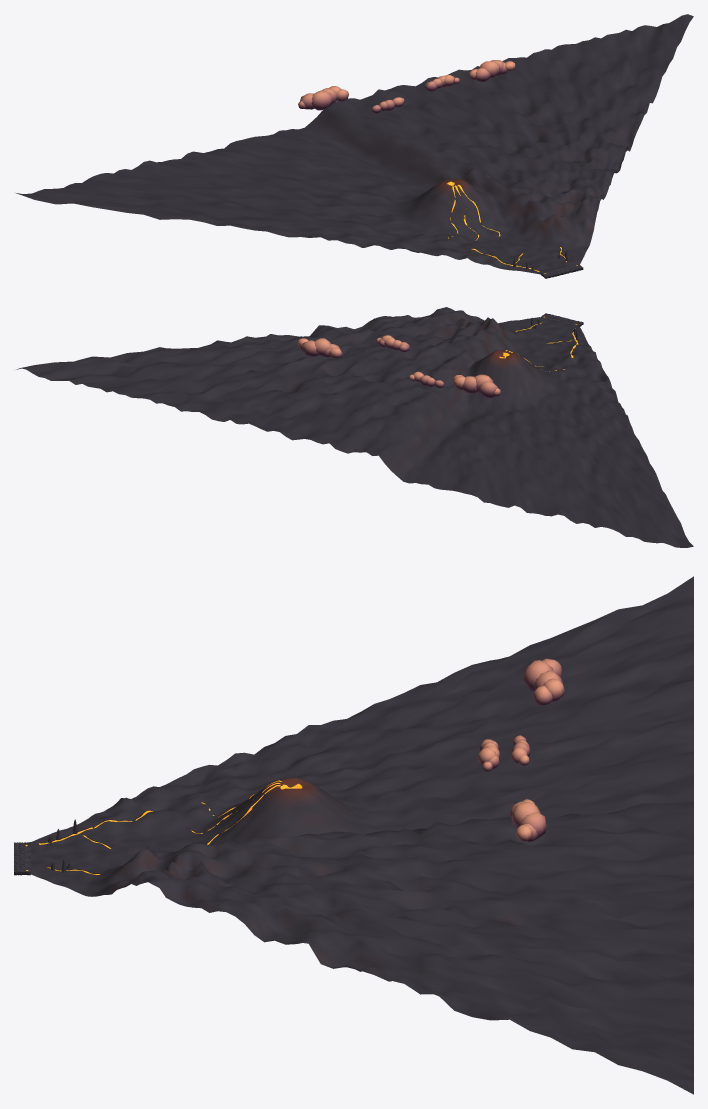
Rendered from backdrop_5.glb.
3 renders of one model, top to bottom at view 1: azimuth 30°, elevation 25°; view 2: azimuth 150°, elevation 25°; view 3: azimuth 270°, elevation 25°, orthographic. The views are drawn at different scales.
Parts seen in each view (by area): view 1: mid_land, cloud_0, cloud_3, fg_lava; view 2: mid_land, cloud_0, cloud_3; view 3: mid_land, cloud_0, cloud_3, fg_lava.
Boxes of the visible parts, x1,y1,x2,y2 form: mid_land: (16,14,693,274); cloud_0: (298,86,348,110); cloud_3: (469,60,515,81); fg_lava: (447,181,577,273); mid_land: (16,307,693,547); cloud_0: (452,374,500,398); cloud_3: (297,338,342,358); mid_land: (29,576,693,1094); cloud_0: (523,658,564,705); cloud_3: (510,799,546,841); fg_lava: (25,780,302,874).
Bounding box in the file's own units: 913 × 109 × 490.
